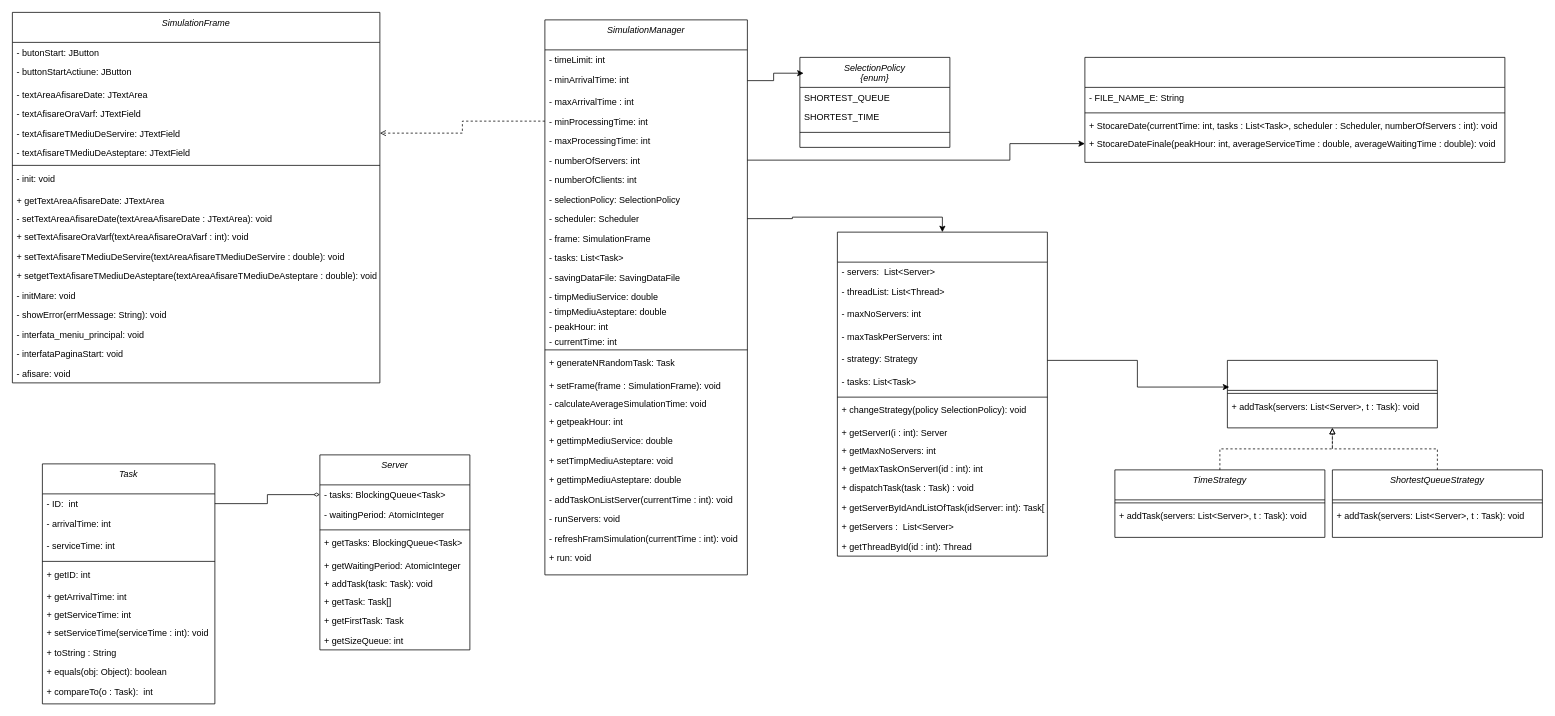
Some shapes in this 1555 by 716 pixel diagram are drawn without their labels. Each missing label, with the box of its shape:
SavingDataFile: (1084, 57, 1505, 162)
Scheduler: (837, 231, 1047, 556)
Strategy {interface}: (1227, 360, 1437, 428)
